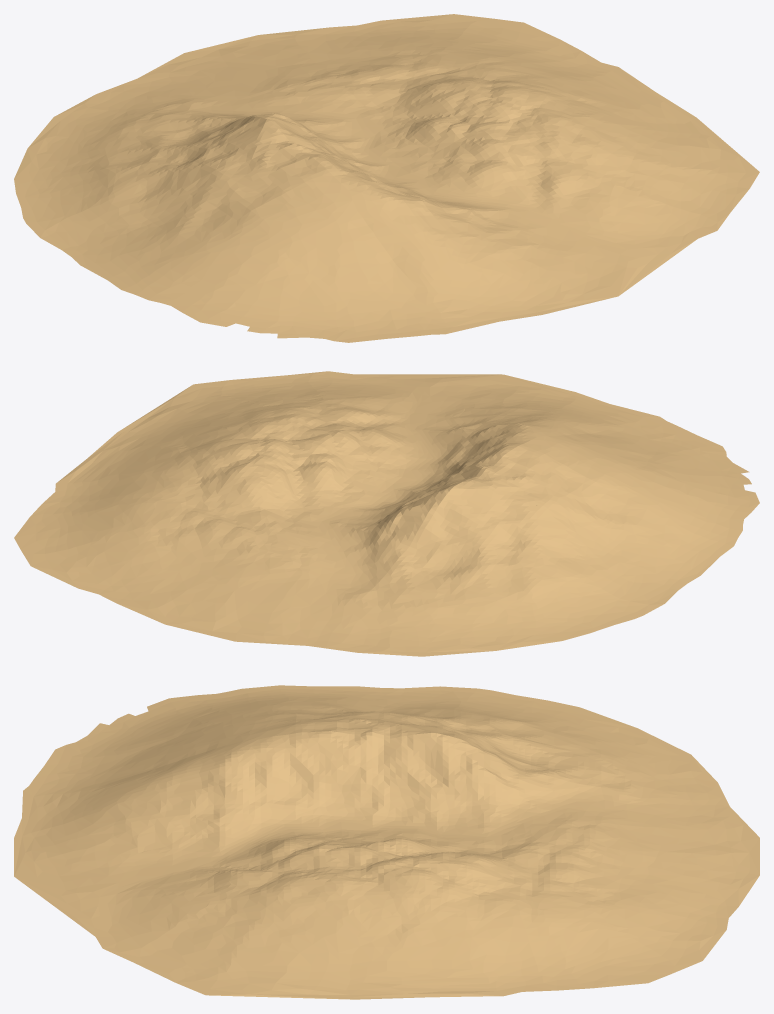
Rendered from MT_Island_L_f_08_LOD.fbx.
The picture shows the model from 3 angles, top to bottom: view 1: azimuth 30°, elevation 25°; view 2: azimuth 150°, elevation 25°; view 3: azimuth 270°, elevation 25°; orthographic projection. The views are drawn at different scales.
Visible parts, largest first — view 1: MT_Island_L_f_08_LOD0; view 2: MT_Island_L_f_08_LOD0; view 3: MT_Island_L_f_08_LOD0.
Part boxes in pixels (<box>): MT_Island_L_f_08_LOD0: <box>14,14,759,342</box>; MT_Island_L_f_08_LOD0: <box>14,371,759,656</box>; MT_Island_L_f_08_LOD0: <box>14,685,759,999</box>.
Size of what is drawn, in the model's own units: 19866 by 2017 by 20000.
